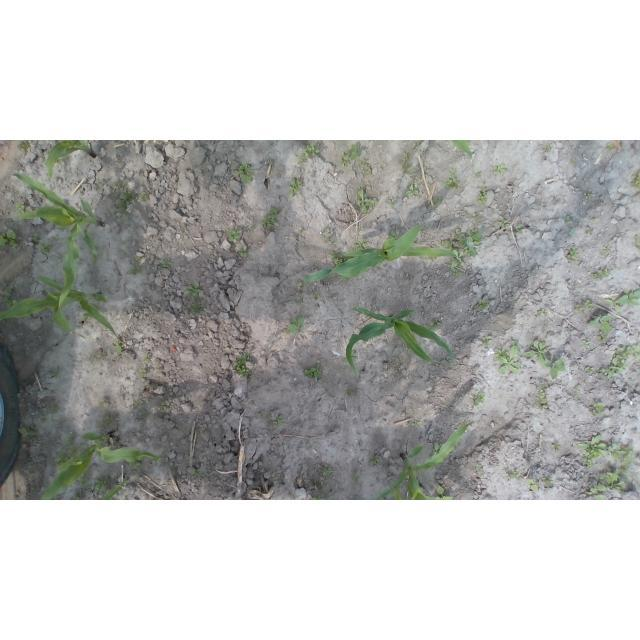Maize: (13, 171, 106, 311), (299, 222, 464, 285), (1, 277, 123, 360), (347, 306, 455, 382), (41, 433, 159, 500), (373, 422, 474, 500), (46, 140, 98, 182), (101, 473, 130, 500), (452, 140, 472, 157)
Weeds: (600, 345, 640, 379), (578, 435, 627, 462), (443, 228, 482, 257), (587, 471, 623, 499), (621, 447, 640, 486), (494, 350, 521, 374), (525, 340, 548, 366), (356, 189, 378, 213), (588, 314, 613, 334), (341, 142, 359, 166), (233, 163, 253, 183), (116, 193, 134, 215), (263, 206, 279, 229), (235, 353, 251, 376), (546, 358, 564, 378), (606, 296, 628, 312), (446, 167, 461, 189), (290, 176, 305, 198), (402, 151, 415, 176), (623, 288, 640, 305), (184, 284, 203, 299), (435, 485, 454, 500), (289, 318, 305, 335), (305, 364, 323, 379), (2, 229, 17, 247), (19, 426, 38, 439), (508, 340, 520, 360), (406, 180, 421, 196), (451, 250, 465, 267), (478, 181, 488, 203), (475, 299, 490, 313), (583, 452, 596, 467), (332, 249, 344, 264), (526, 478, 538, 492), (592, 402, 604, 416), (228, 230, 242, 242), (96, 478, 109, 490), (498, 216, 509, 230), (632, 171, 640, 189), (504, 469, 517, 480), (493, 165, 507, 175), (274, 415, 284, 429), (192, 302, 204, 313), (387, 197, 398, 209), (355, 239, 367, 250), (298, 152, 309, 164), (17, 142, 29, 153), (473, 393, 483, 405), (580, 341, 592, 351), (568, 248, 578, 260), (362, 163, 372, 175), (308, 143, 320, 153), (114, 342, 123, 355), (56, 456, 69, 465), (103, 415, 114, 425), (481, 337, 493, 346), (351, 470, 360, 482), (432, 441, 439, 455), (5, 298, 17, 306), (433, 195, 442, 205), (114, 180, 124, 189), (40, 414, 50, 423), (370, 457, 378, 468), (129, 267, 140, 275), (514, 224, 525, 232), (536, 311, 548, 318), (543, 475, 552, 484), (603, 246, 612, 255), (472, 213, 481, 222), (41, 246, 50, 255), (429, 322, 439, 330), (139, 192, 147, 202), (323, 471, 334, 478), (552, 442, 561, 450), (50, 404, 58, 413), (68, 438, 76, 447), (264, 413, 273, 421), (161, 261, 171, 268), (80, 479, 87, 489), (601, 269, 612, 275), (598, 333, 607, 340), (576, 305, 585, 312), (568, 229, 577, 236), (322, 229, 331, 236), (391, 231, 400, 238), (16, 204, 25, 211), (296, 297, 305, 304), (98, 355, 107, 362), (139, 369, 148, 376), (538, 390, 545, 398), (586, 367, 594, 374), (585, 300, 593, 307), (584, 192, 592, 199), (545, 144, 552, 152), (347, 388, 354, 396), (240, 251, 249, 257), (33, 234, 39, 243), (297, 281, 302, 291), (593, 272, 600, 279), (194, 470, 201, 477), (412, 421, 420, 427), (134, 256, 142, 262), (573, 283, 580, 289), (590, 215, 596, 222), (607, 142, 614, 148), (144, 354, 149, 362), (564, 216, 570, 222), (477, 172, 483, 178), (477, 463, 483, 469), (99, 401, 105, 407), (453, 269, 458, 276), (135, 462, 142, 467), (53, 372, 60, 377), (99, 180, 106, 184), (343, 277, 349, 281), (572, 158, 577, 162), (314, 296, 318, 301)
